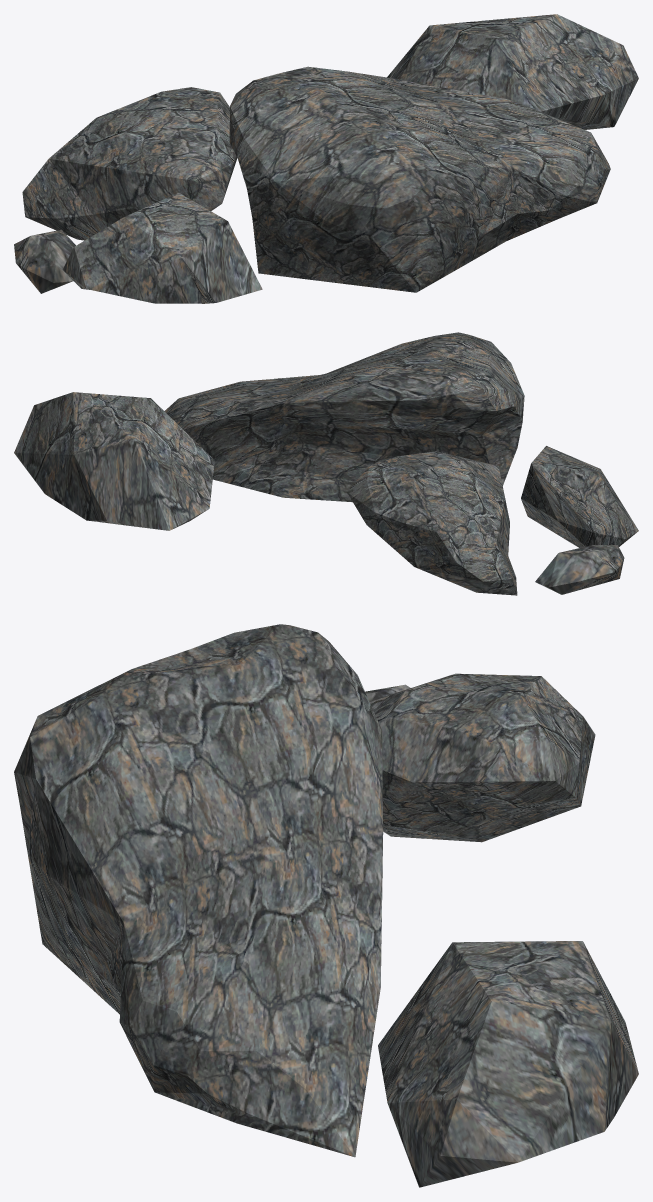
File: C1SNOUTCROP2_H.obj
The picture shows the model from 3 angles, top to bottom: view 1: azimuth 30°, elevation 25°; view 2: azimuth 150°, elevation 25°; view 3: azimuth 270°, elevation 25°; orthographic projection. The views are drawn at different scales.
Parts seen in each view (by area): view 1: Node 0; view 2: Node 0; view 3: Node 0.
Boxes of the visible parts, x1,y1,x2,y2 form: Node 0: (14, 14, 638, 303); Node 0: (14, 332, 638, 595); Node 0: (14, 624, 638, 1187).
Bounding box in the file's own units: 34.13 × 9.02 × 18.69.
Materials: 1 (1 with a texture image).
